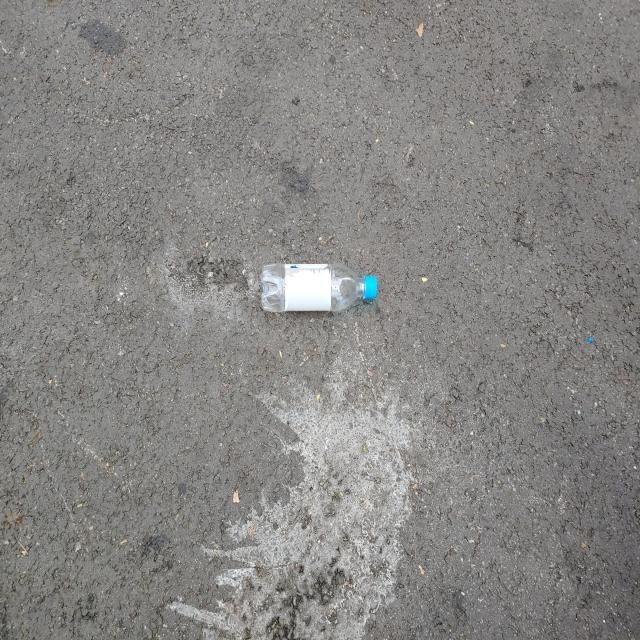plastic: (261, 263, 378, 312)
